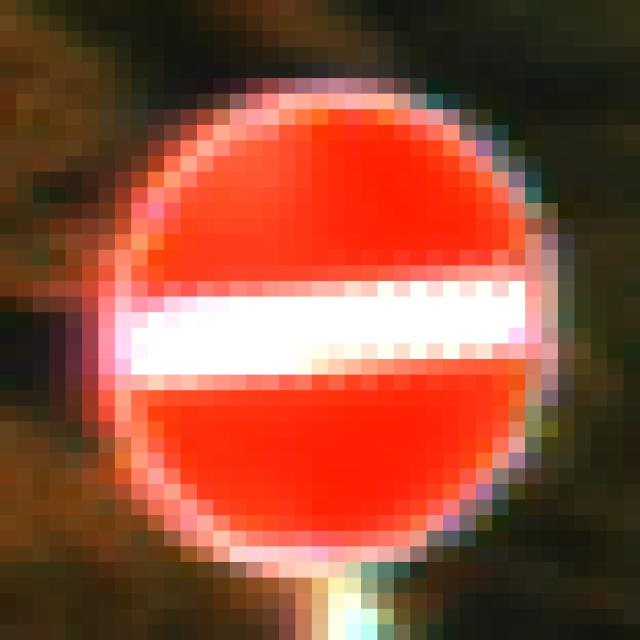No Entry: (99, 79, 559, 563)
